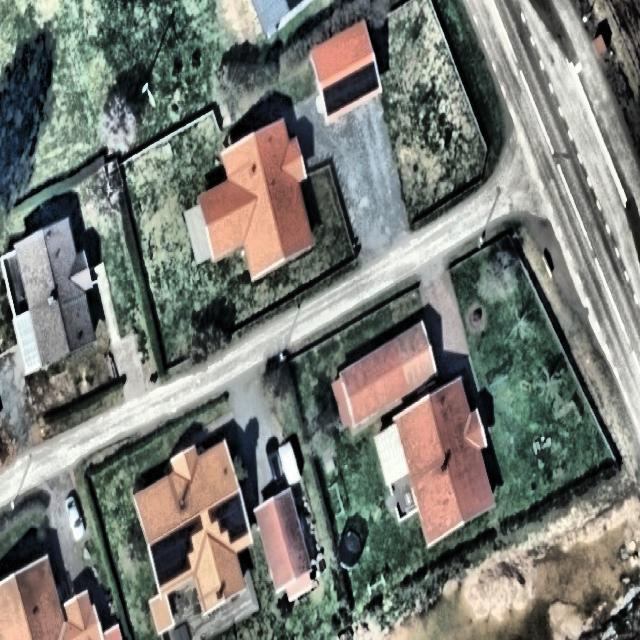roof_pv: (321, 54, 381, 119), (149, 516, 204, 586), (208, 491, 253, 545)
